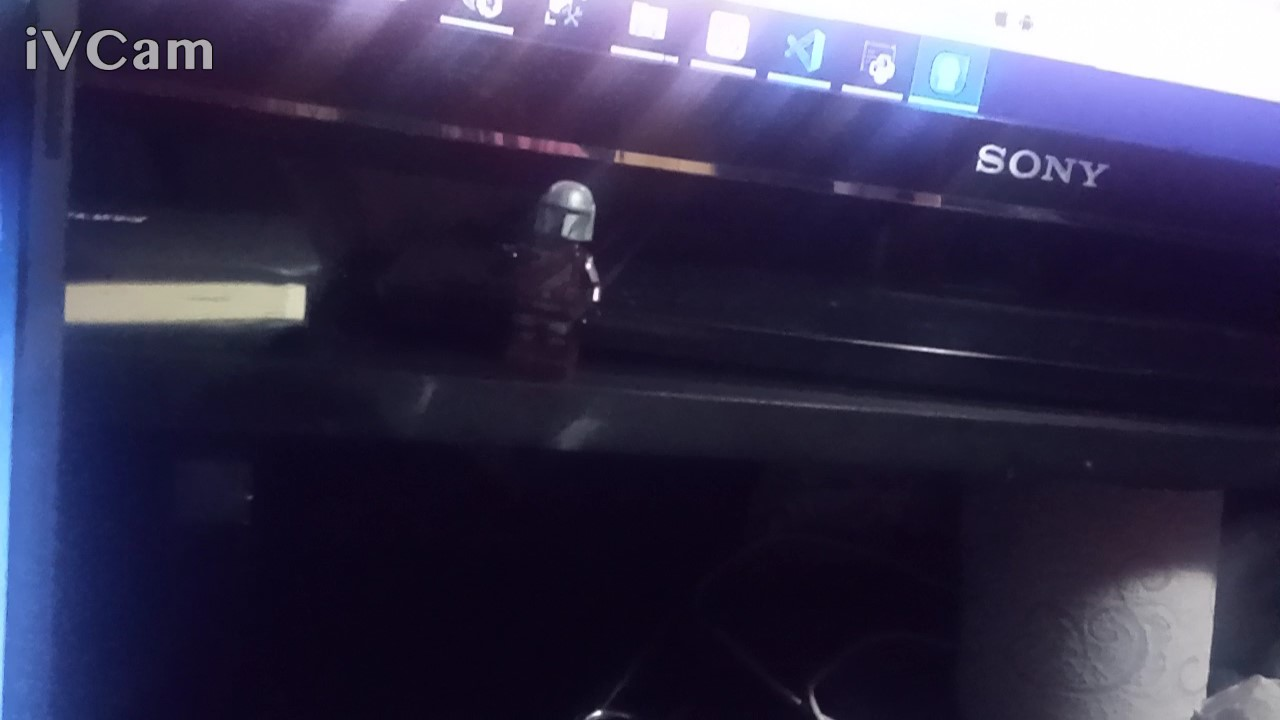mandalorian: (497, 171, 623, 373)
